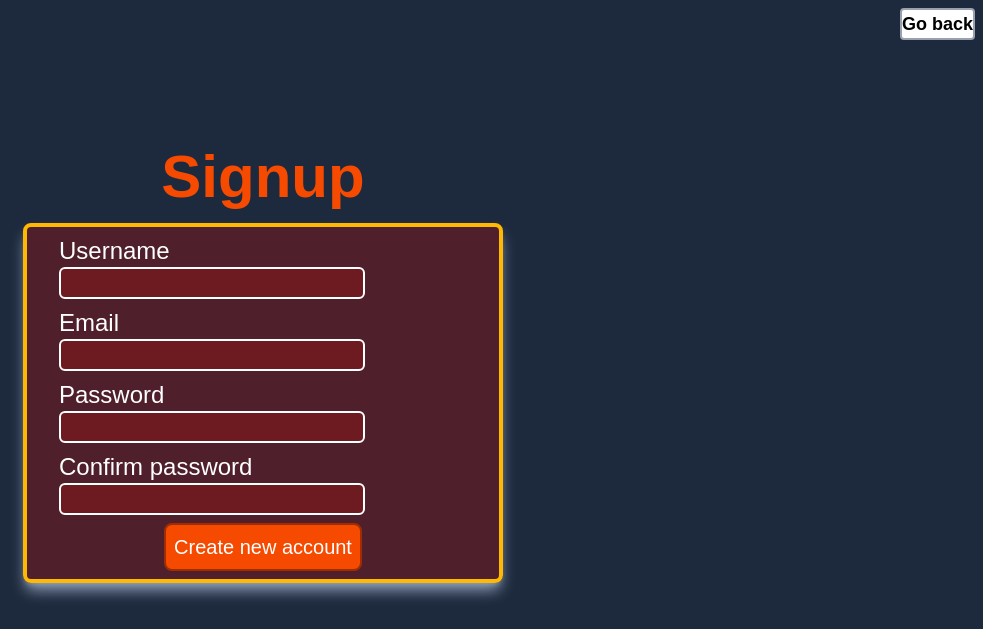
Test: Signup Form › try to create a new account without filling the confirm password
Step 1. Type "Bob" into the field labelled "Username" → (212, 282), box [59, 266, 365, 298]
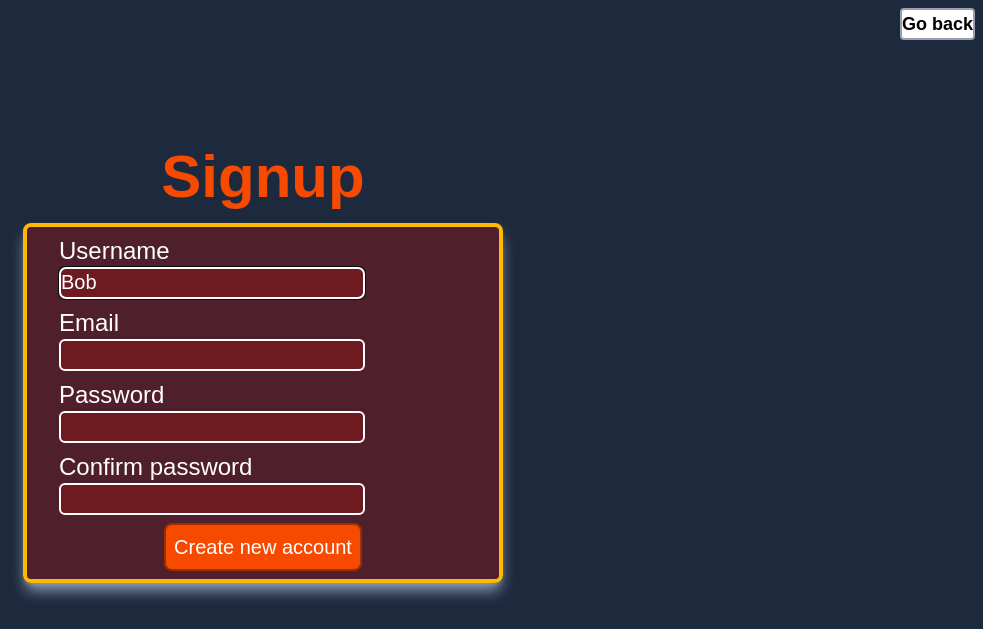
Step 2. Type "bob@gmail.com" into the field labelled "Email" → (212, 354), box [59, 338, 365, 370]
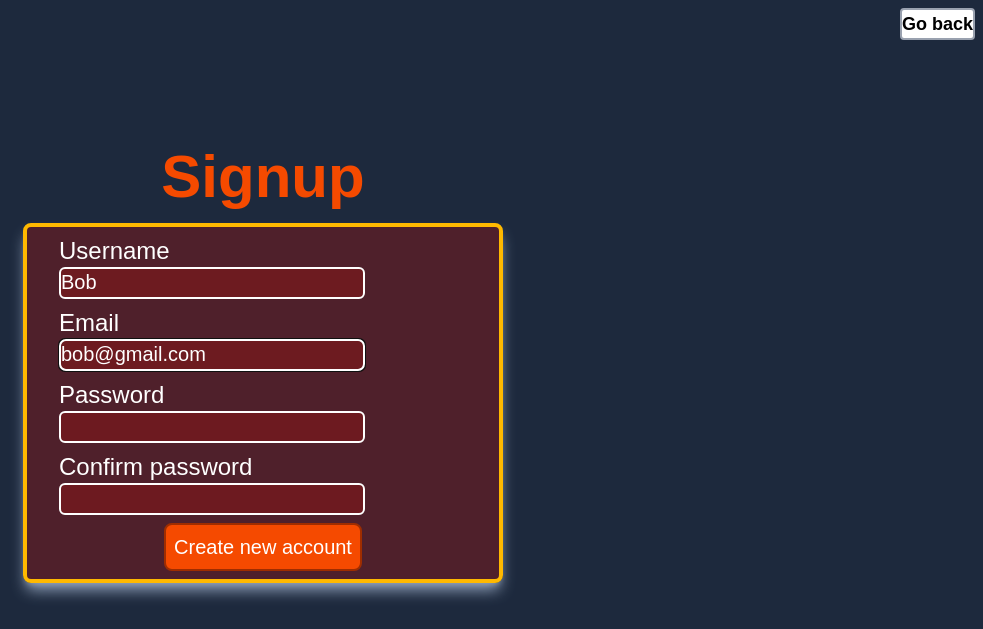
Step 3. Type "godgod1!" into the password field labelled "Password" → (212, 426), box [59, 410, 365, 442]
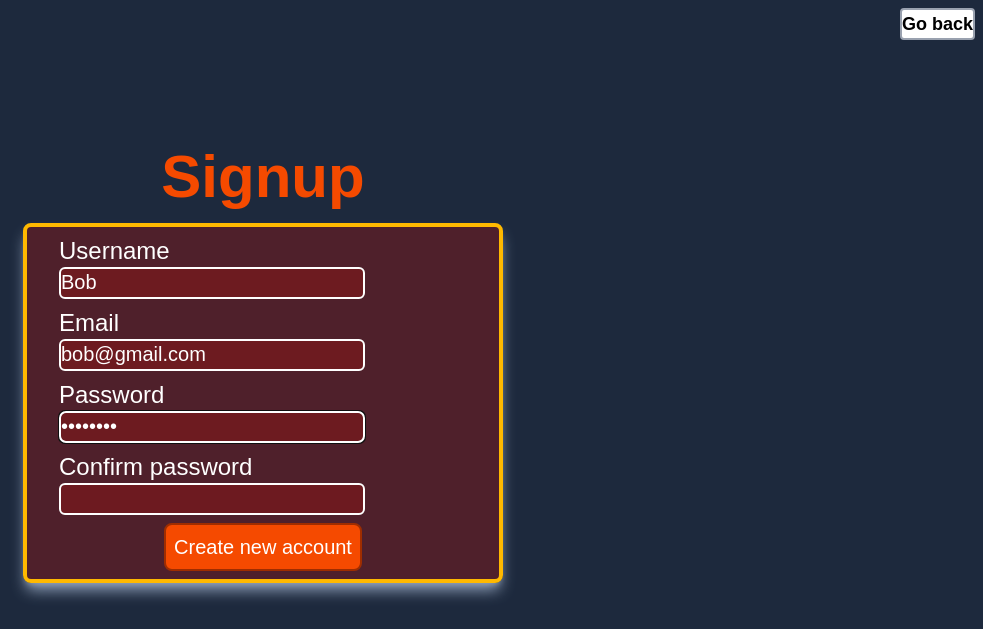
Step 4. Click the button showing "Create new account" → (263, 546), box [164, 522, 362, 570]
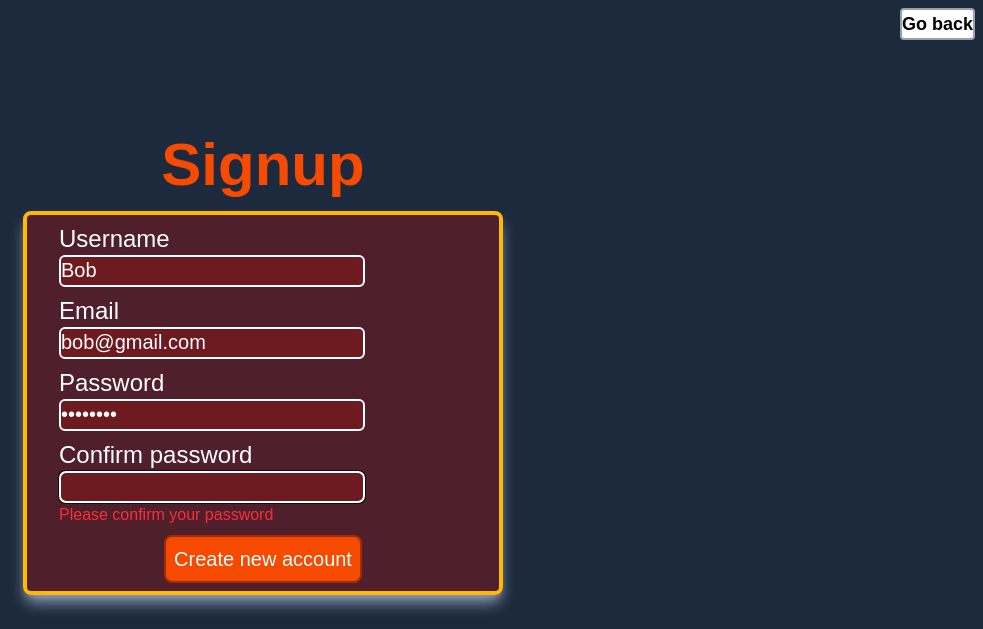
Check: the text "Please confirm your password" is shown, box [59, 502, 273, 526]
